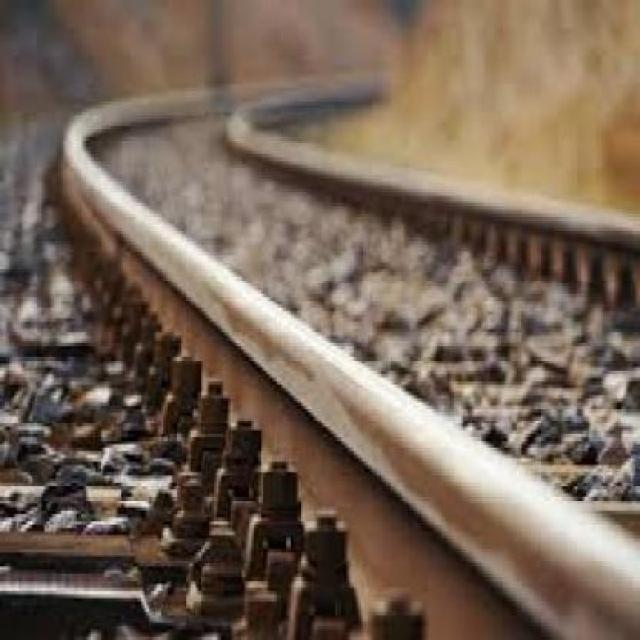rail: (20, 41, 633, 631)
